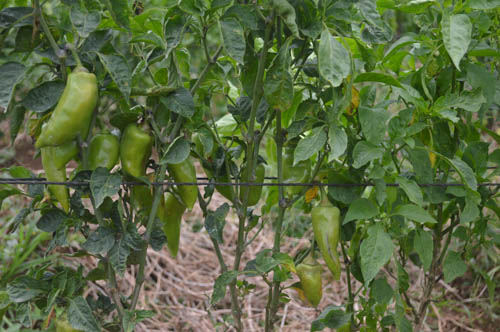ChiliPepper: (36, 73, 96, 146), (41, 132, 73, 211), (314, 206, 349, 275), (201, 148, 237, 202), (120, 127, 151, 178), (173, 158, 204, 208), (292, 263, 323, 308), (91, 133, 120, 178), (239, 163, 268, 207)
